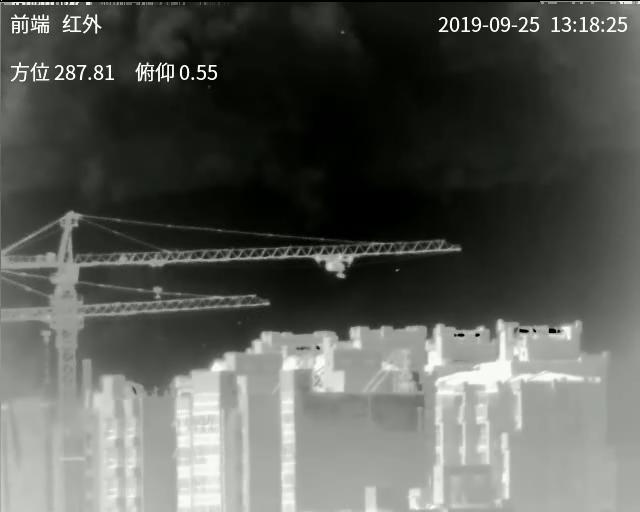uav: (312, 252, 354, 280)
